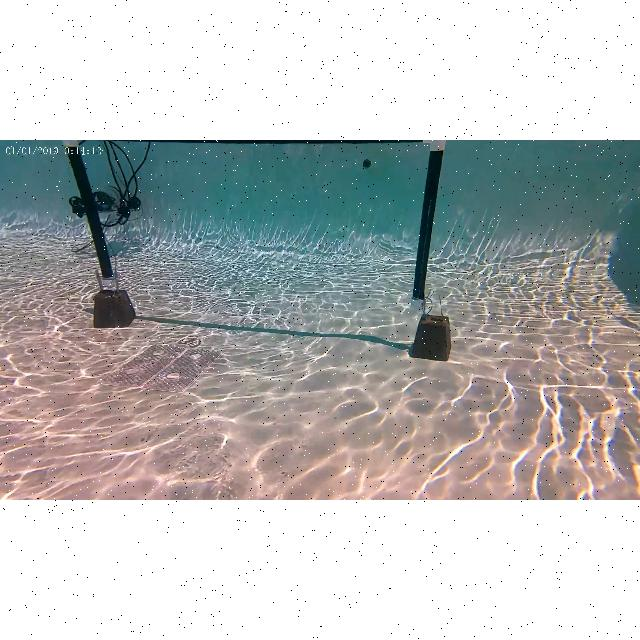prequal gate: (63, 140, 447, 308)
prequal gate leg l: (54, 140, 134, 328)
prequal gate leg r: (418, 140, 459, 364)
